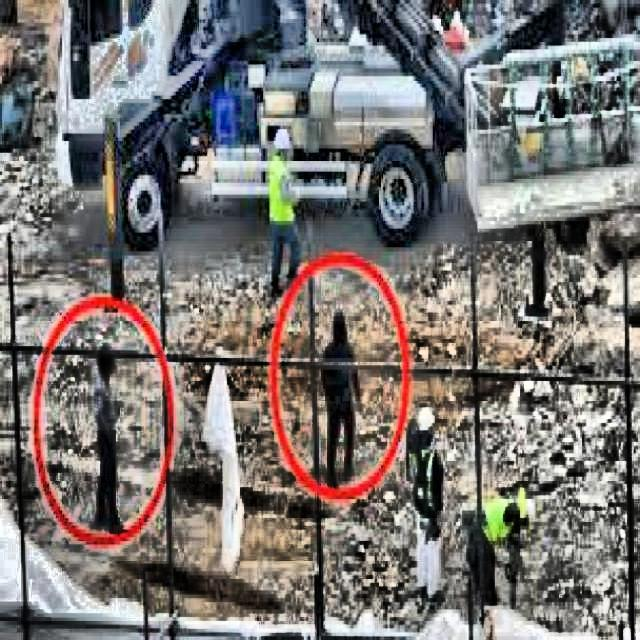bull_dozer/loader/grader: (53, 0, 563, 257)
person: (406, 407, 448, 607), (322, 312, 364, 486), (484, 478, 534, 618), (268, 128, 304, 300), (94, 340, 125, 530)
